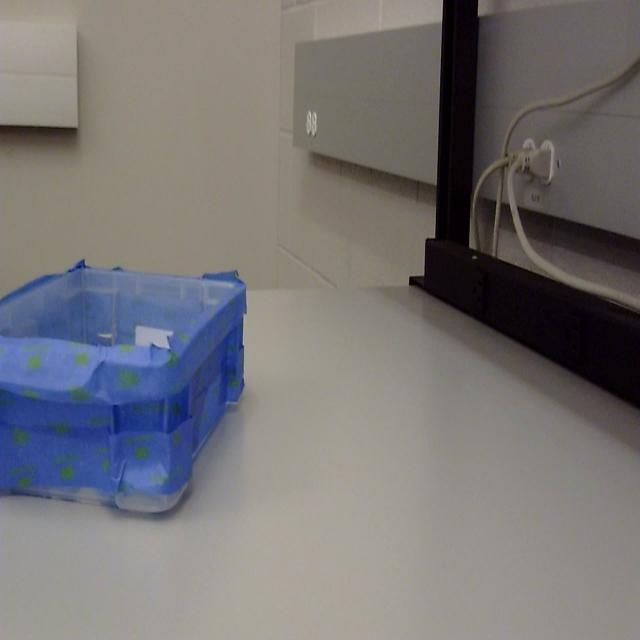bucket: (0, 264, 247, 519)
